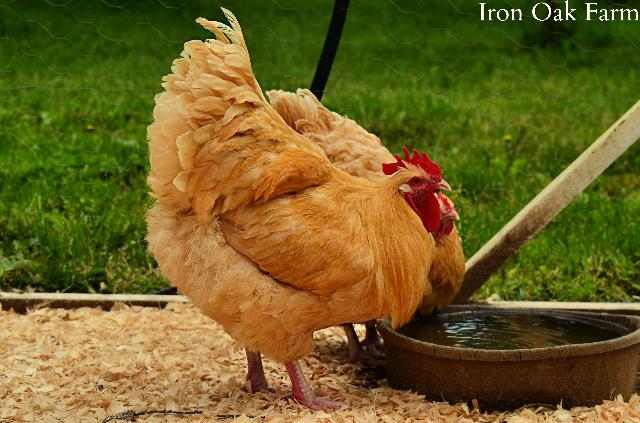Chicken: (147, 7, 451, 410), (264, 88, 467, 314)
